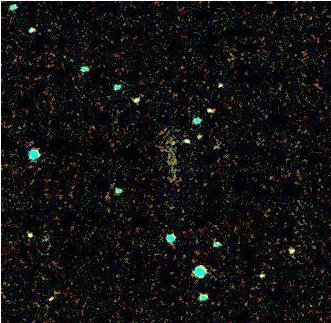star: (158, 127, 188, 157)
